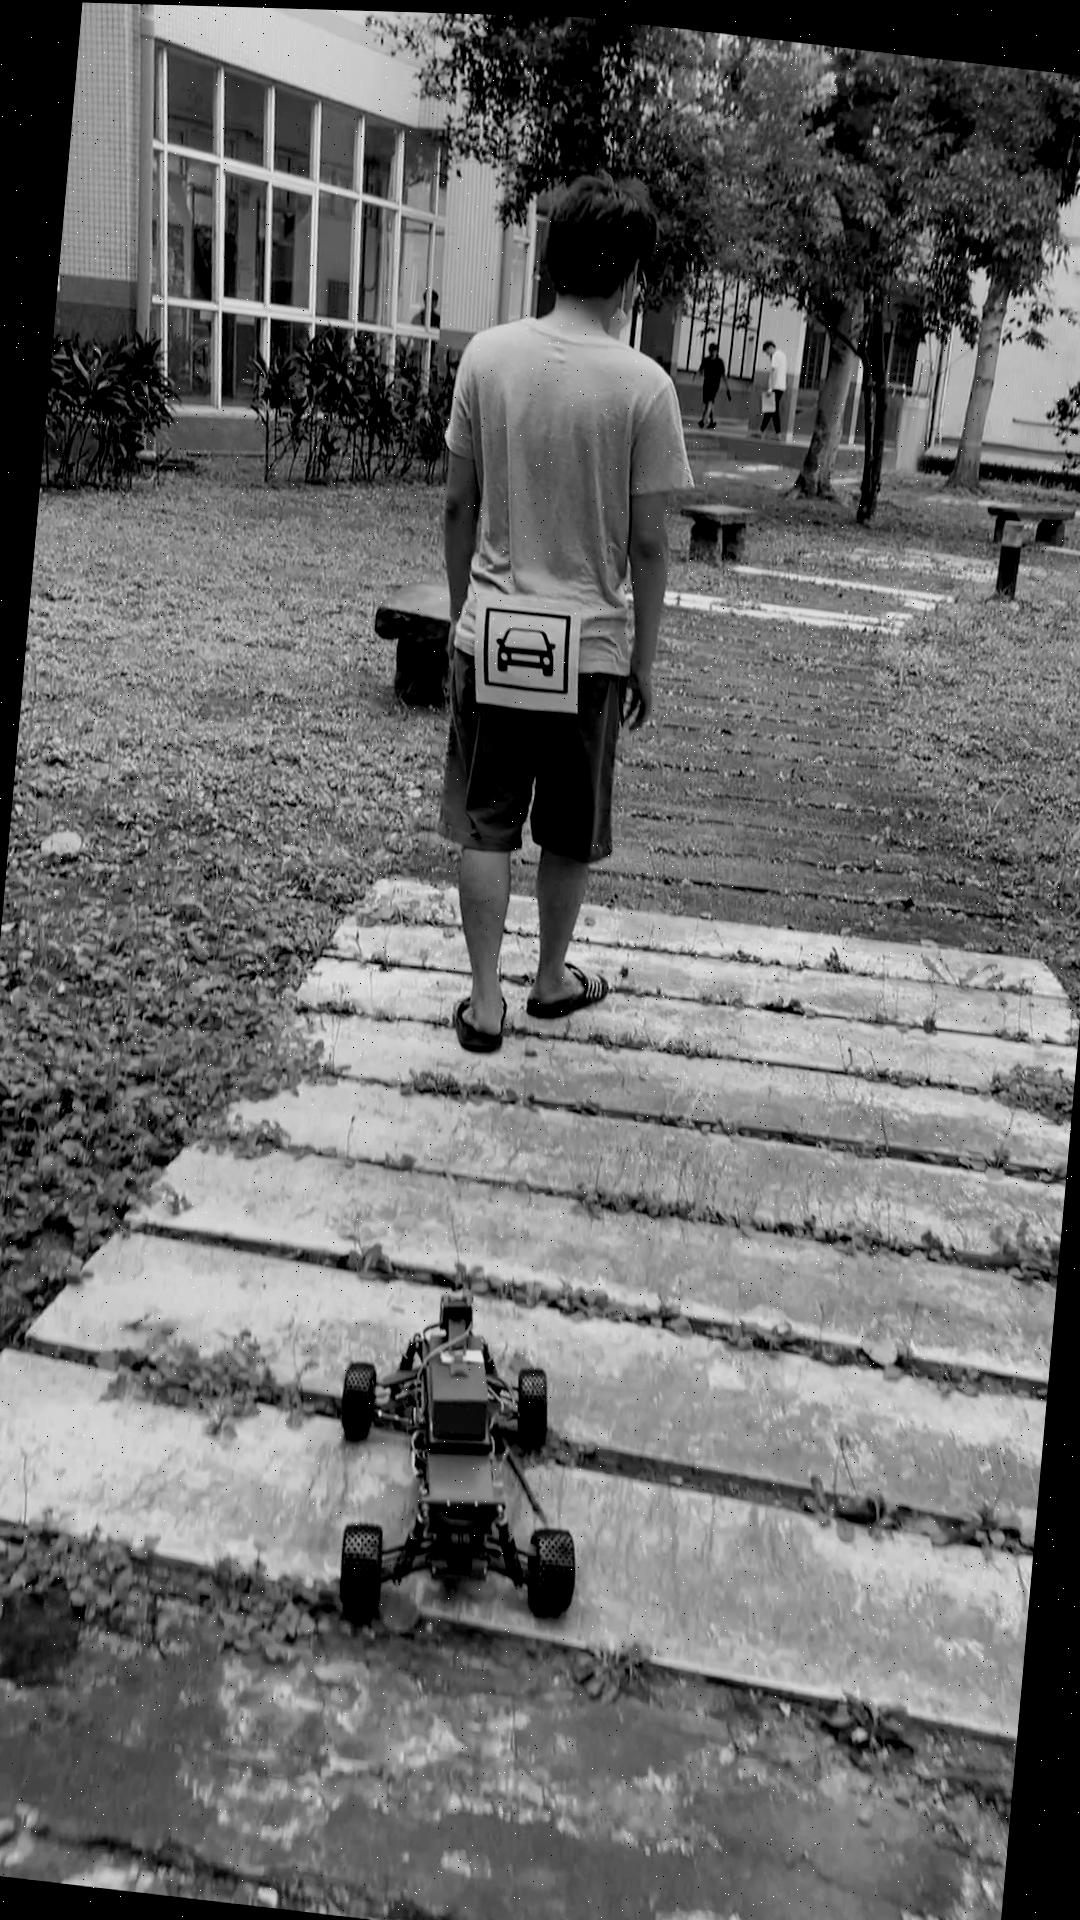car_img: (479, 603, 575, 692)
